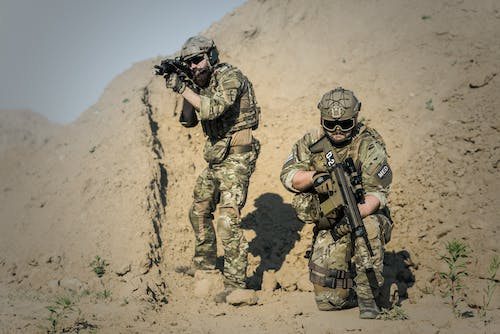gun: (307, 133, 384, 309), (151, 54, 194, 80)
